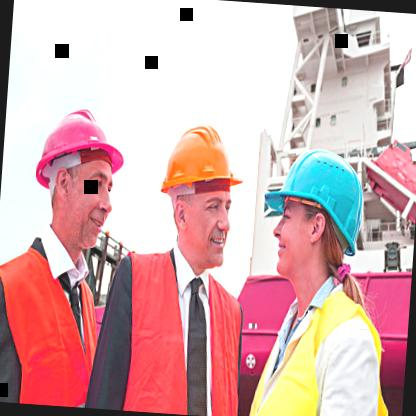helmet: (255, 122, 372, 312), (140, 102, 251, 283), (27, 82, 135, 266)
